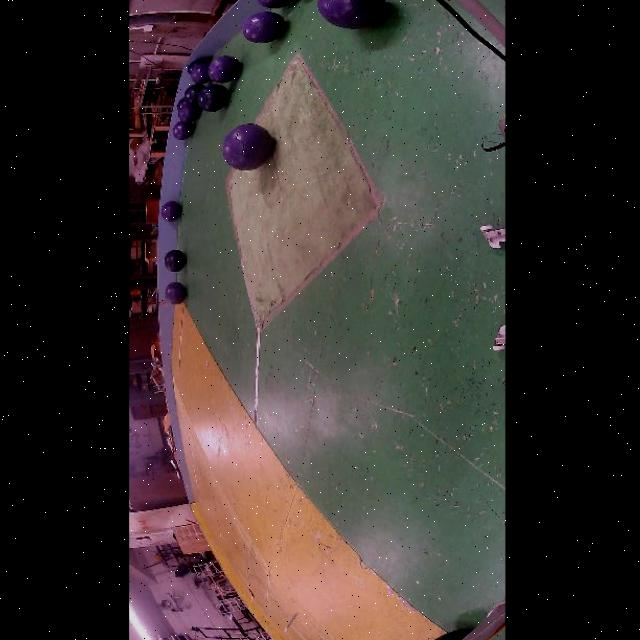B: (196, 84, 228, 112), (162, 250, 185, 272), (182, 84, 203, 105)
P: (221, 123, 274, 171), (315, 0, 385, 29), (241, 12, 285, 43), (206, 56, 240, 84), (162, 282, 185, 305), (177, 103, 199, 123), (160, 201, 179, 222), (189, 63, 208, 84), (170, 122, 192, 140), (255, 0, 293, 9)
